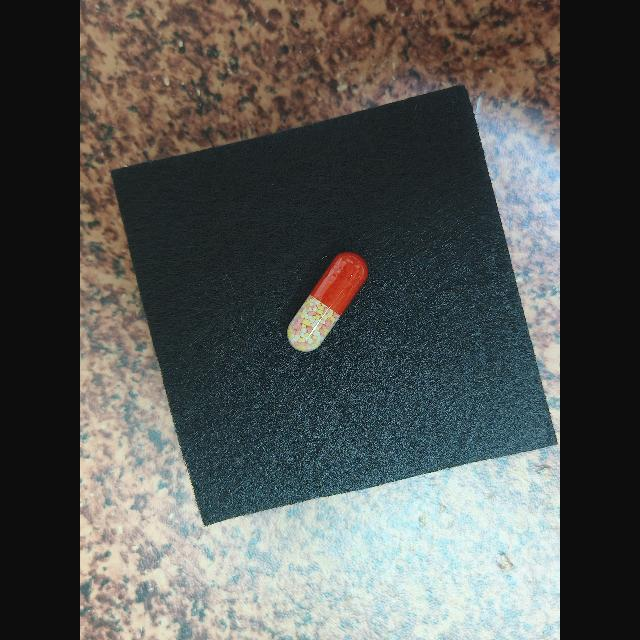Intact Capsule: (287, 252, 368, 352)
